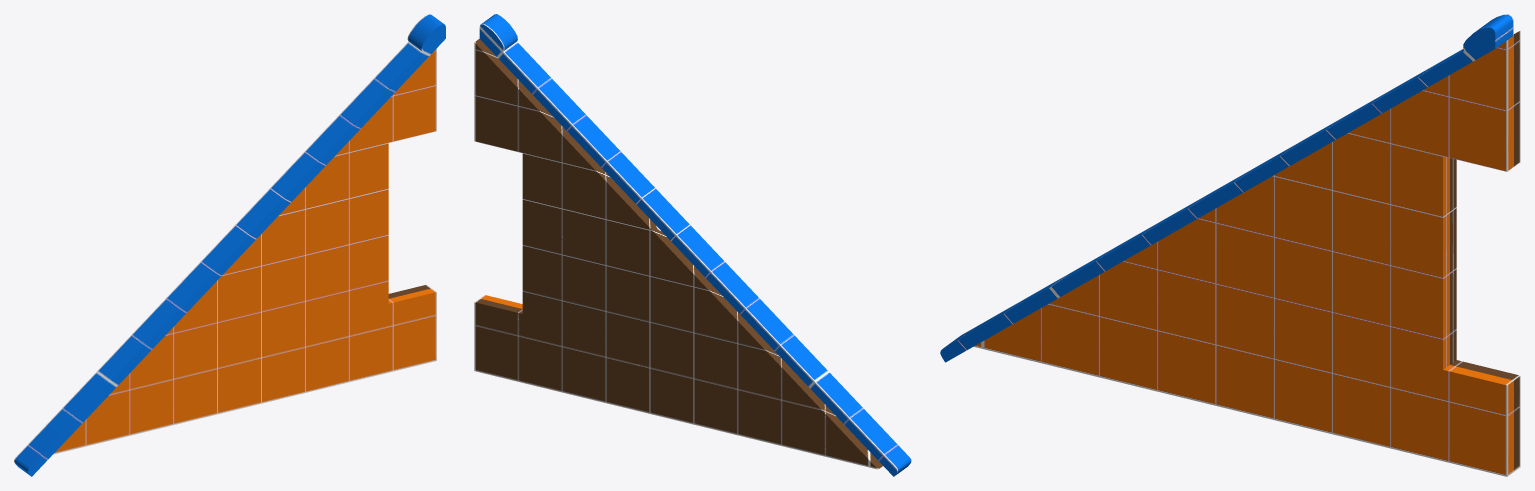
Rendered from M01Roof01_2WindowTypeA.FBX.
3 renders of one model, left to right at view 1: azimuth 30°, elevation 25°; view 2: azimuth 150°, elevation 25°; view 3: azimuth 330°, elevation 25°, orthographic. The views are drawn at different scales.
Visible parts, largest first — view 1: M01Roof01_2WindowTypeA; view 2: M01Roof01_2WindowTypeA; view 3: M01Roof01_2WindowTypeA.
Part boxes in pixels (x1=…): M01Roof01_2WindowTypeA: x1=14, y1=14, x2=445, y2=476; M01Roof01_2WindowTypeA: x1=474, y1=14, x2=911, y2=476; M01Roof01_2WindowTypeA: x1=940, y1=14, x2=1520, y2=476.
Size of what is drawn, in the model's own units: 4.76 by 3.84 by 0.3758.
